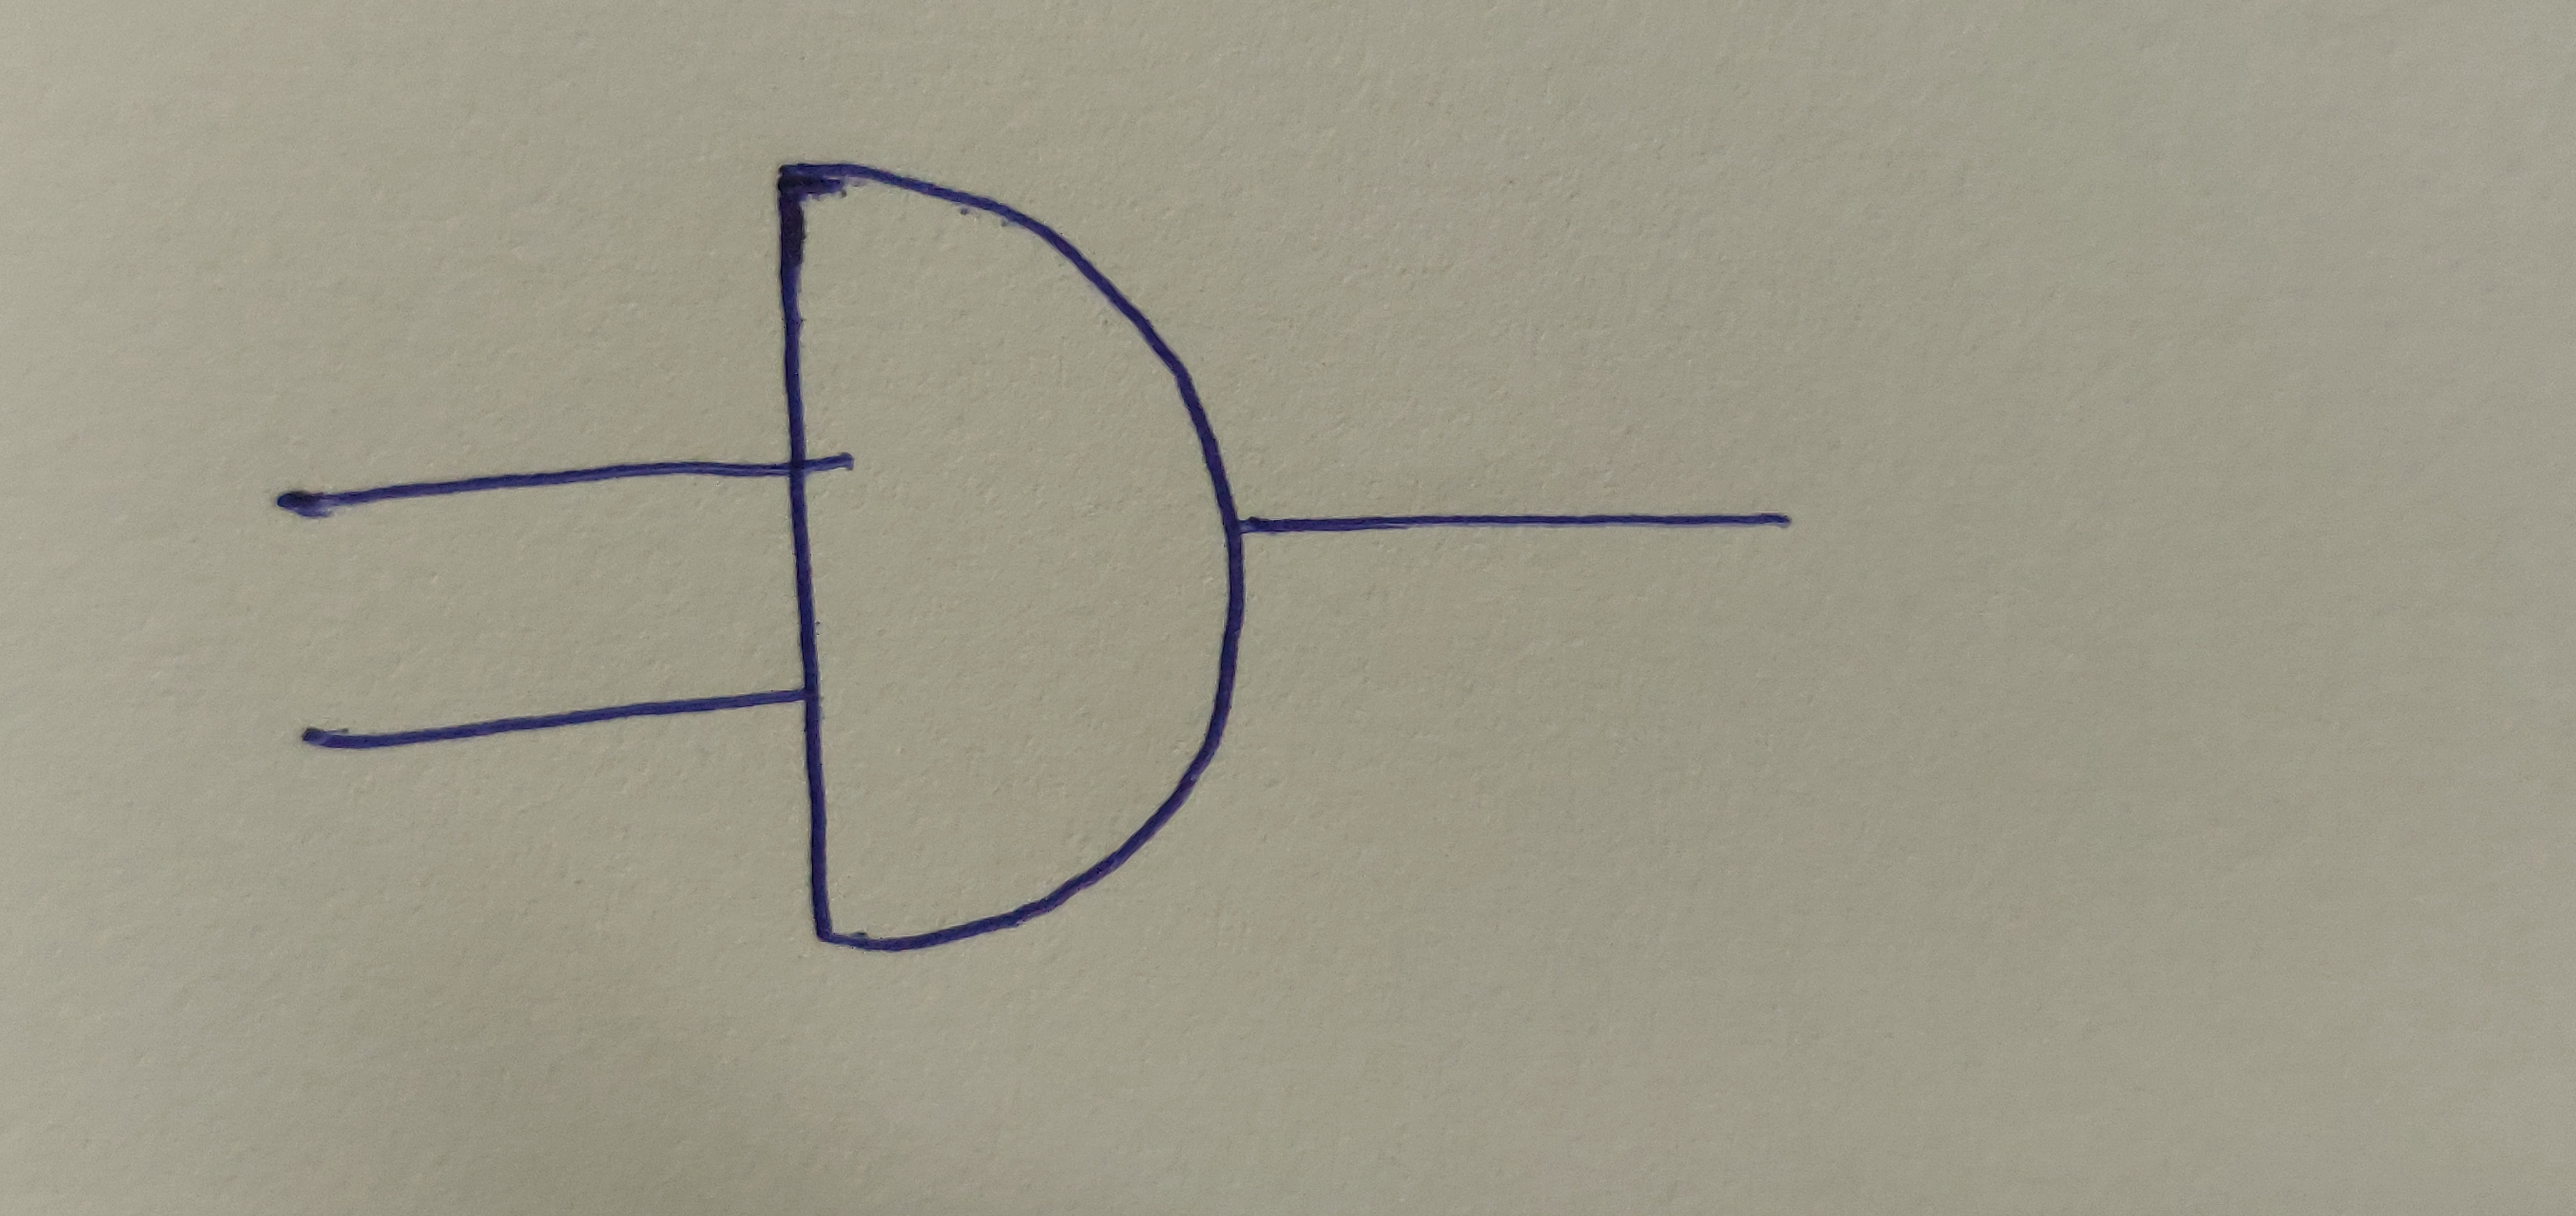and: (767, 156, 1250, 958)
